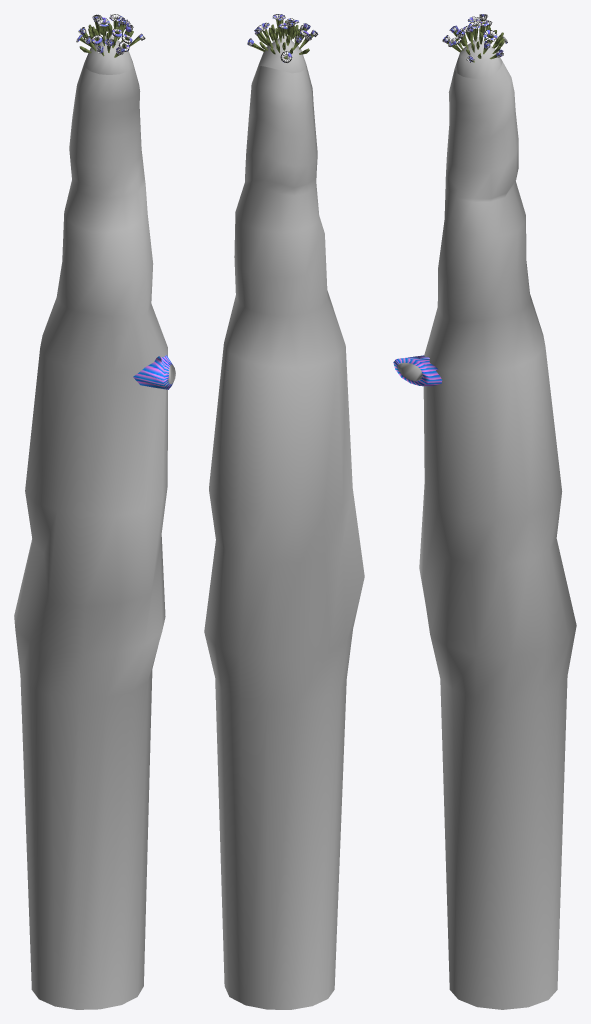
Rendered from cacti2v2.obj.
3 views of the same model, side by side, from view 1: azimuth 30°, elevation 25°; view 2: azimuth 150°, elevation 25°; view 3: azimuth 270°, elevation 25° (orthographic). The views are drawn at different scales.
Parts seen in each view (by area): view 1: cacti2v2; view 2: cacti2v2; view 3: cacti2v2.
Boxes of the visible parts, <box> form: cacti2v2: <box>14,14,175,1009</box>; cacti2v2: <box>204,14,364,1009</box>; cacti2v2: <box>393,14,576,1009</box>.
Size of the model in its own units: 0.3788 by 2.72 by 0.466.
